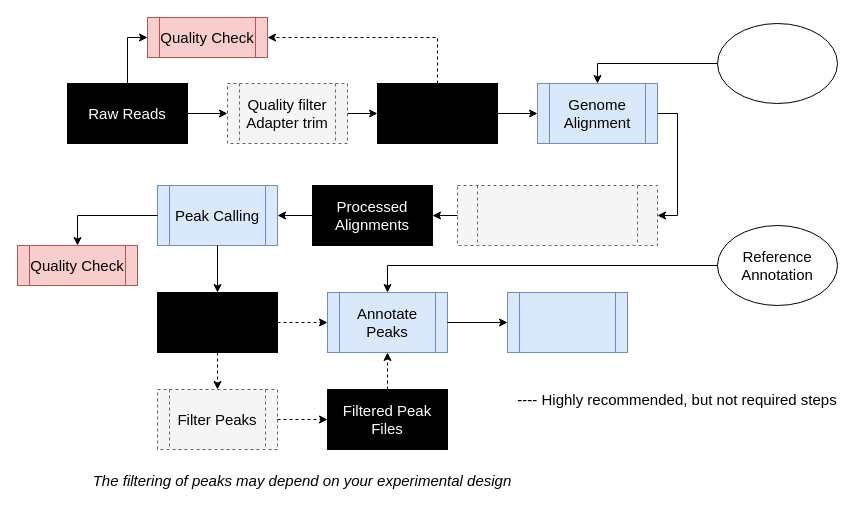
Some shapes in this 865 by 513 pixel diagram are drawn without their labels. Here are the shapes that lost their labels. From the top down, the box of each, then its label:
(716, 22, 838, 104): Reference Fasta
(376, 82, 498, 144): Processed Reads
(456, 184, 658, 246): Postprocessing (e.g., PCR duplicate removal)
(156, 292, 278, 352): Peak Files
(506, 292, 628, 352): Experiment Dependent
